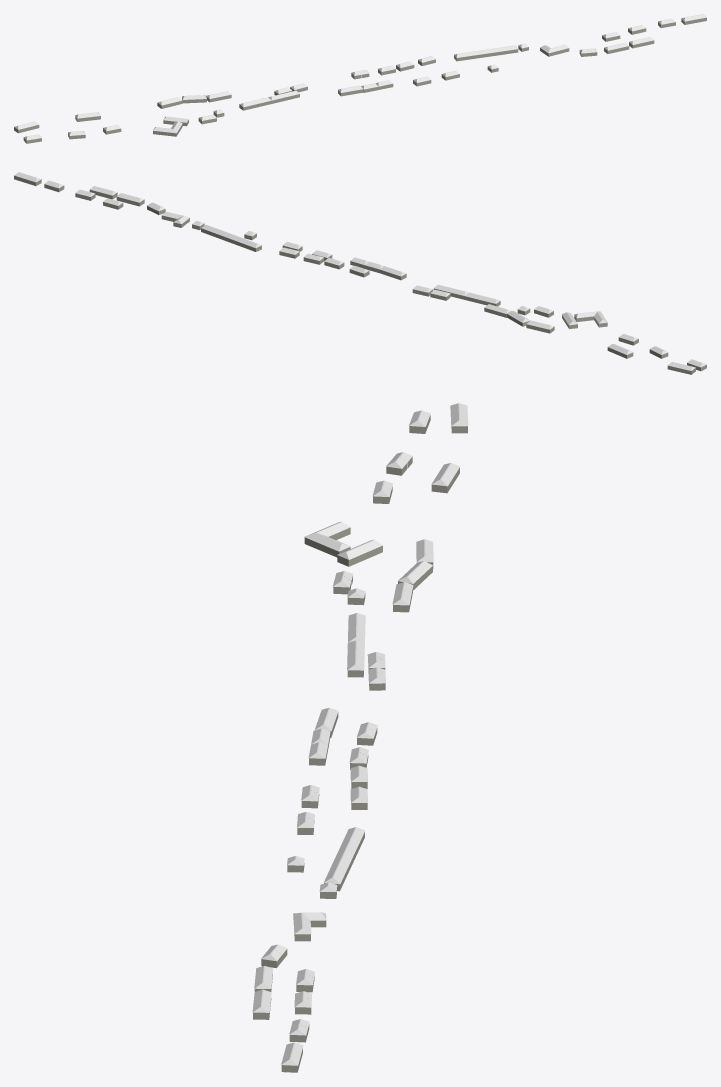
File: Orilla.fbx
The picture shows the model from 3 angles, top to bottom: view 1: azimuth 30°, elevation 25°; view 2: azimuth 150°, elevation 25°; view 3: azimuth 270°, elevation 25°; orthographic projection. The views are drawn at different scales.
Parts seen in each view (by area): view 1: SingleOrilla; view 2: SingleOrilla; view 3: SingleOrilla.
Part boxes in pixels (left/top/right/bottom): SingleOrilla: left=14, top=14, right=706, bottom=143; SingleOrilla: left=14, top=172, right=706, bottom=374; SingleOrilla: left=252, top=403, right=468, bottom=1072.
Size of the model in its own units: 100388 by 3390 by 14483.
